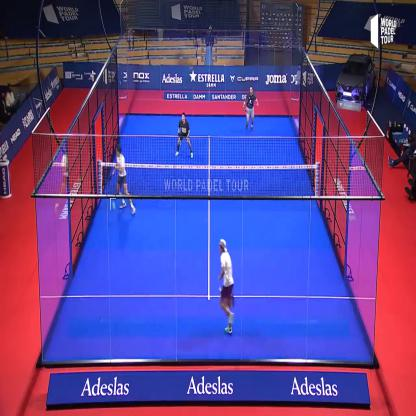ball: (110, 198, 117, 211)
